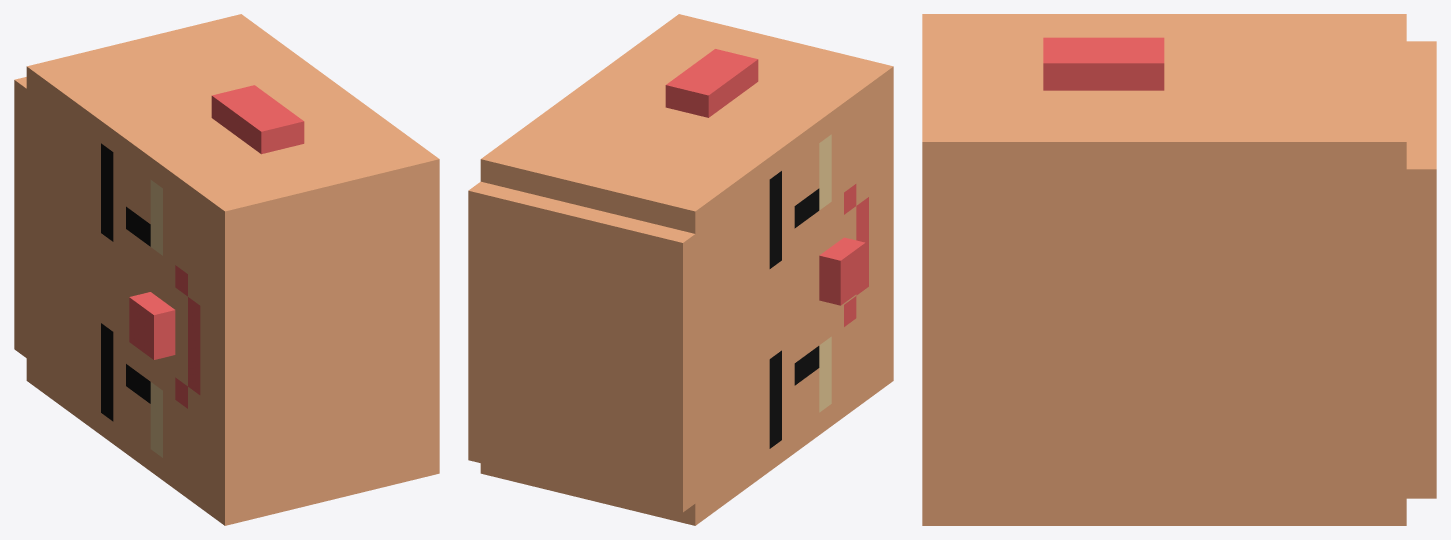
3 views of the same model, side by side, from view 1: azimuth 30°, elevation 25°; view 2: azimuth 150°, elevation 25°; view 3: azimuth 270°, elevation 25° (orthographic). The views are drawn at different scales.
Parts seen in each view (by area): view 1: Face_Base.001; view 2: Face_Base.001; view 3: Face_Base.001.
Part boxes in pixels (x1,y1,x2,y2): Face_Base.001: (14,14,439,525); Face_Base.001: (468,14,893,525); Face_Base.001: (922,14,1436,525).
Size of the model in its own units: 1.1 by 1.6 by 1.7.
